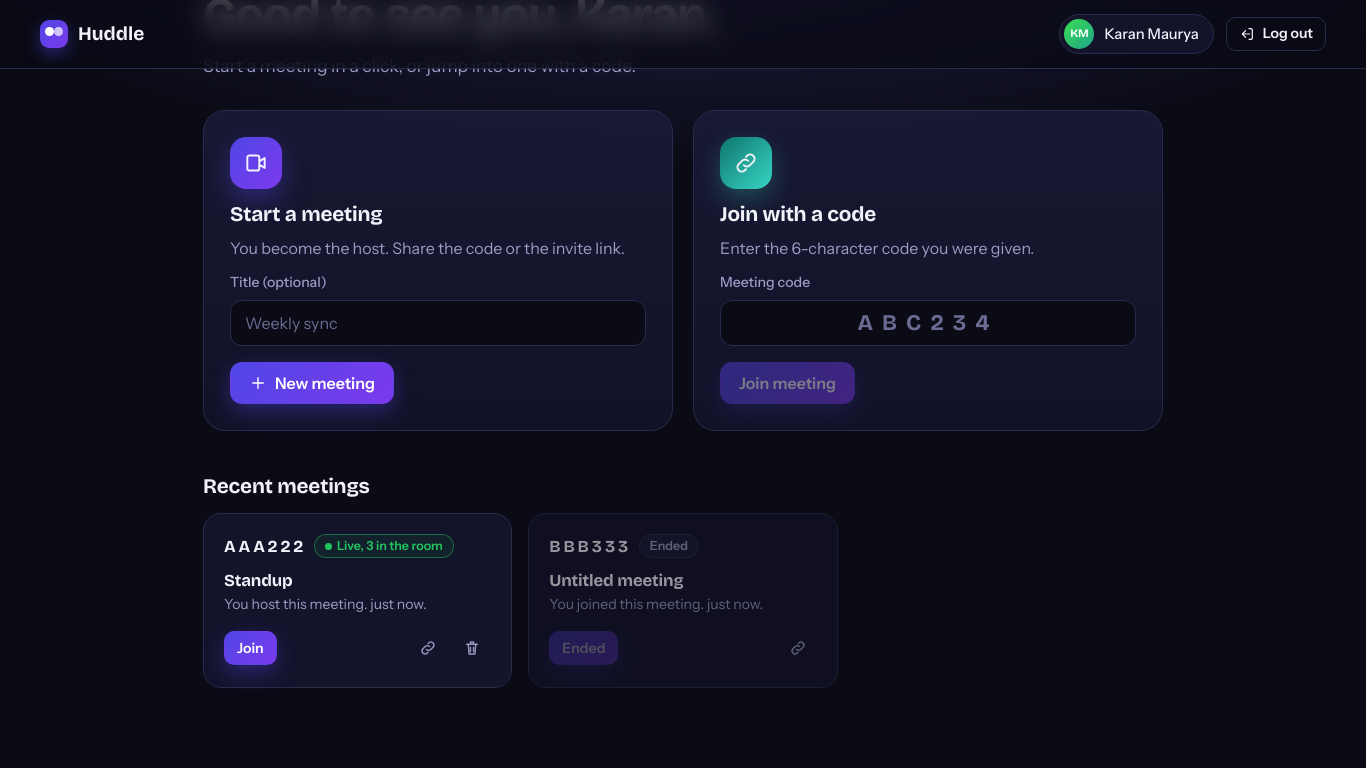
Test case: dashboard › asks for confirmation before deleting, then deletes and removes the card
(page scrolled)
Step 1. Click the button named "Delete meeting AAA222" → [472, 648], box [453,629,491,667]
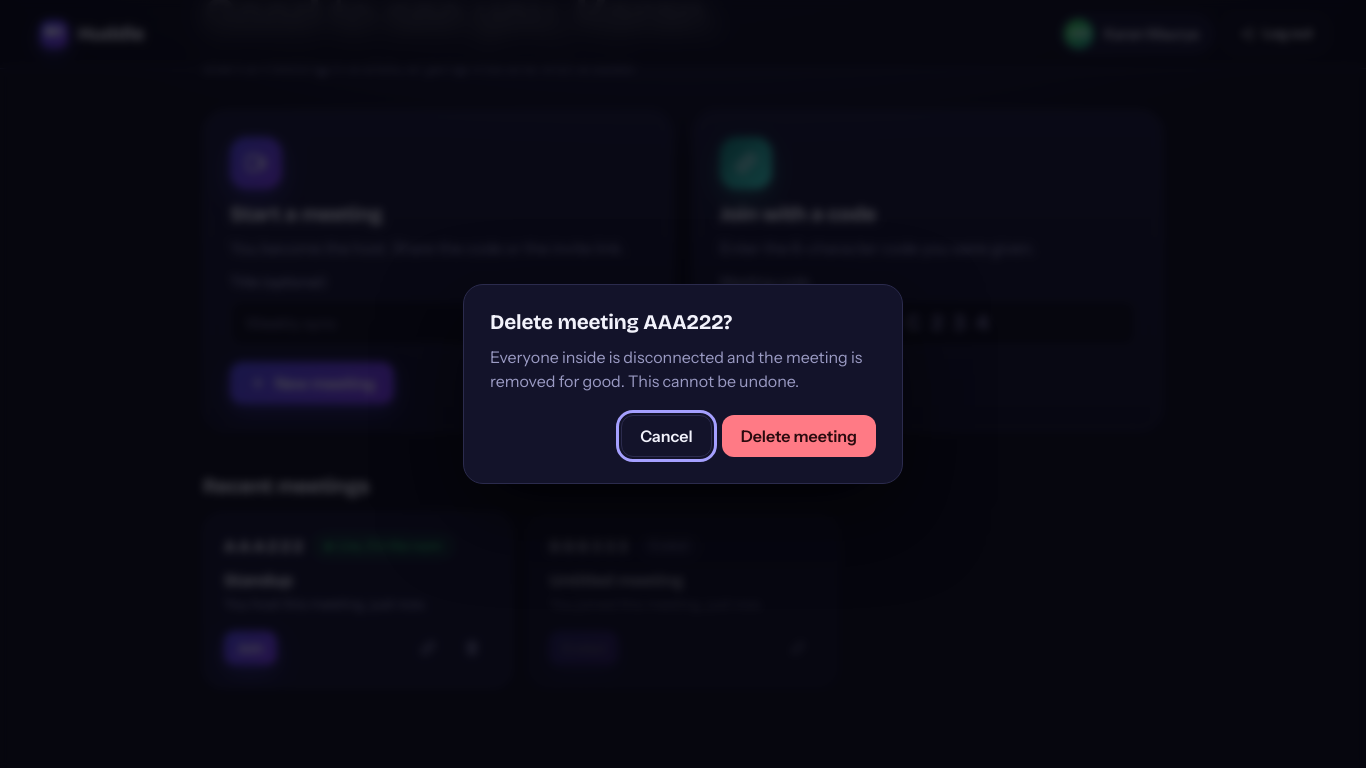
Expected: the dialog shows "Delete meeting AAA222?", [490,310,732,335]
Step 2. Click the button "Delete meeting" → [799, 436], box [722,415,876,457]
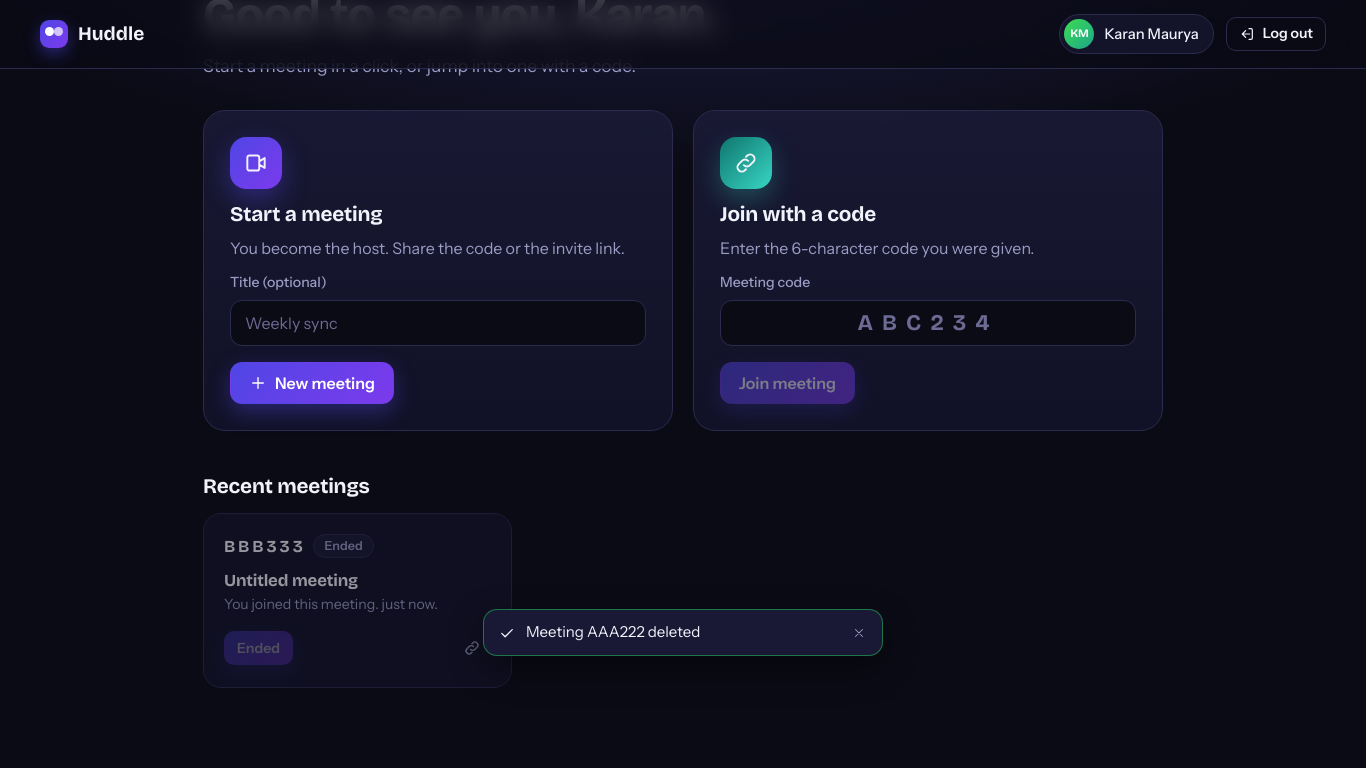
Expected: the heading "Standup" is gone
